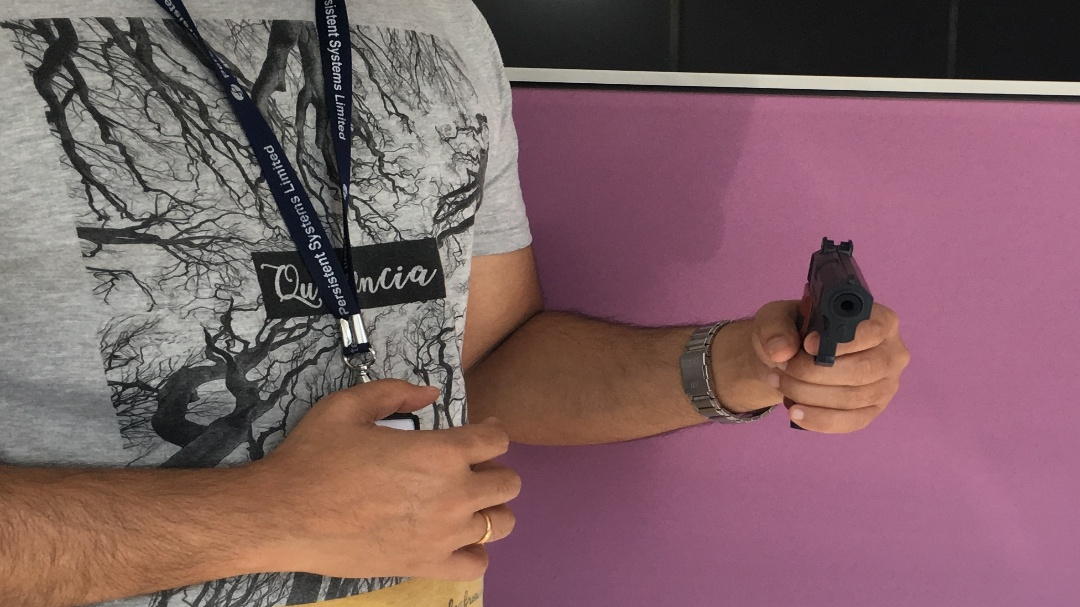gun: (793, 232, 876, 371)
